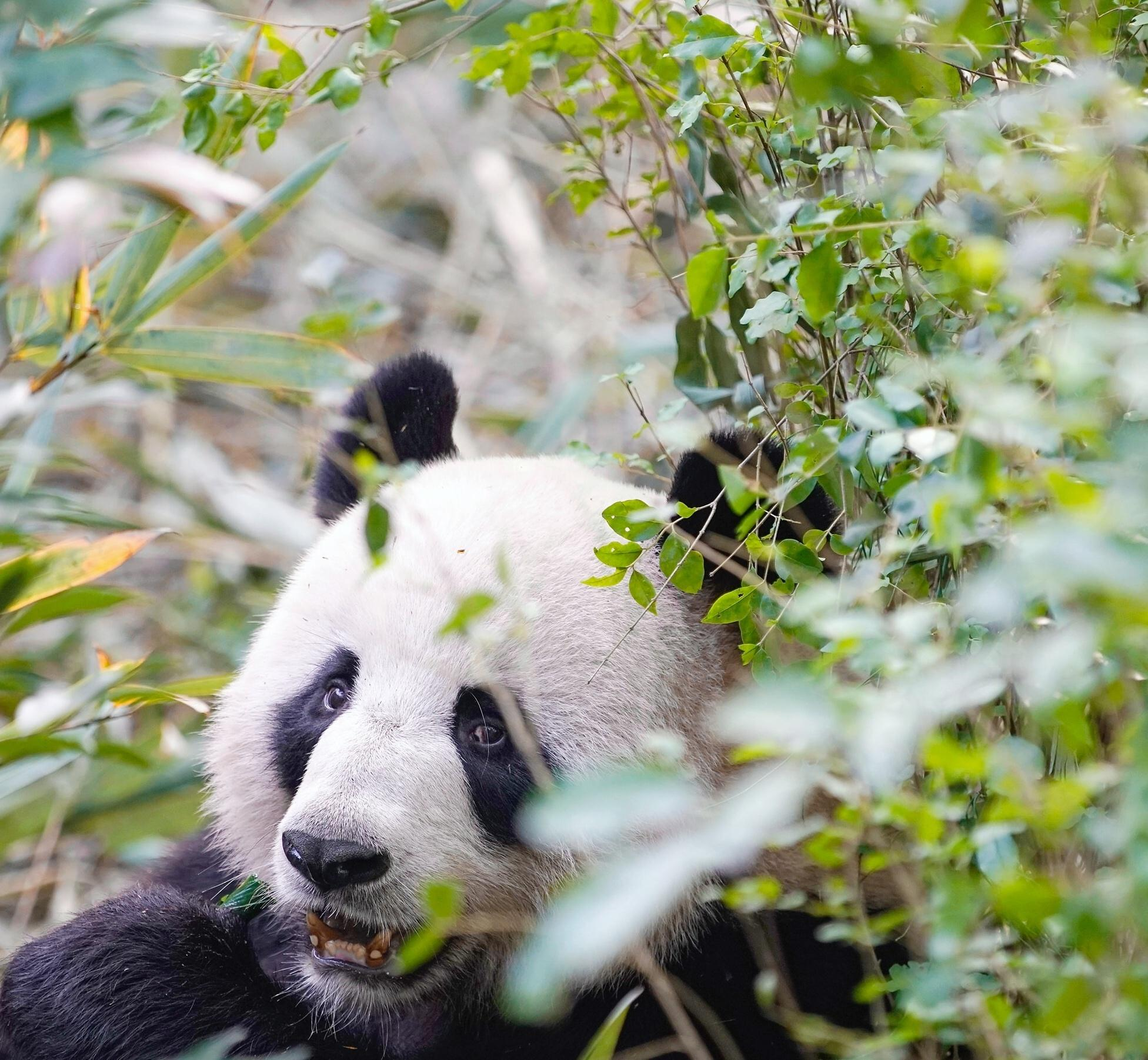panda: (51, 357, 820, 1057)
